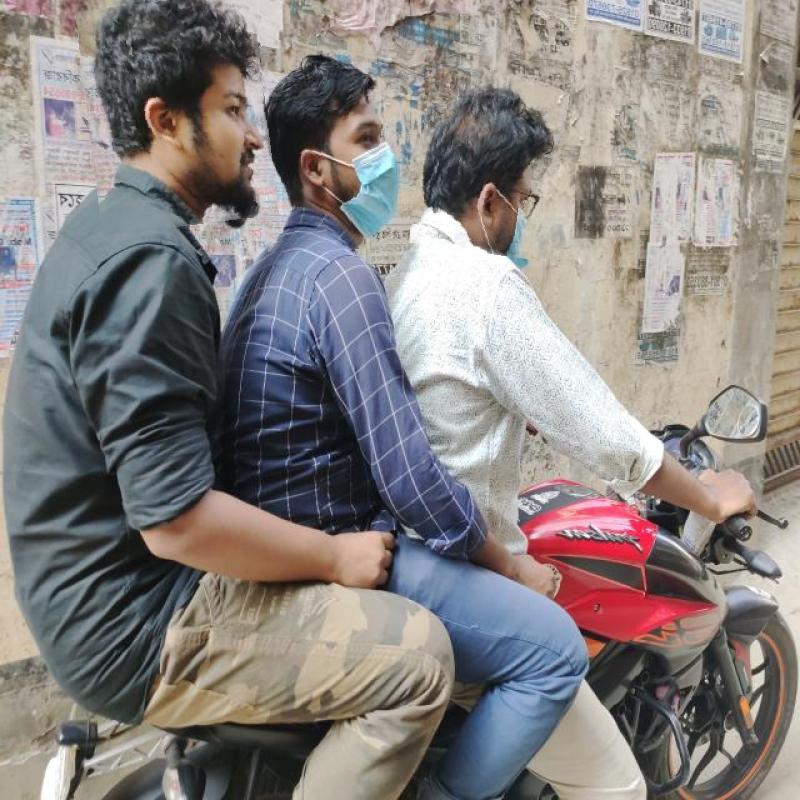nohelmet: (81, 0, 272, 231), (262, 27, 408, 250), (415, 68, 566, 258)
